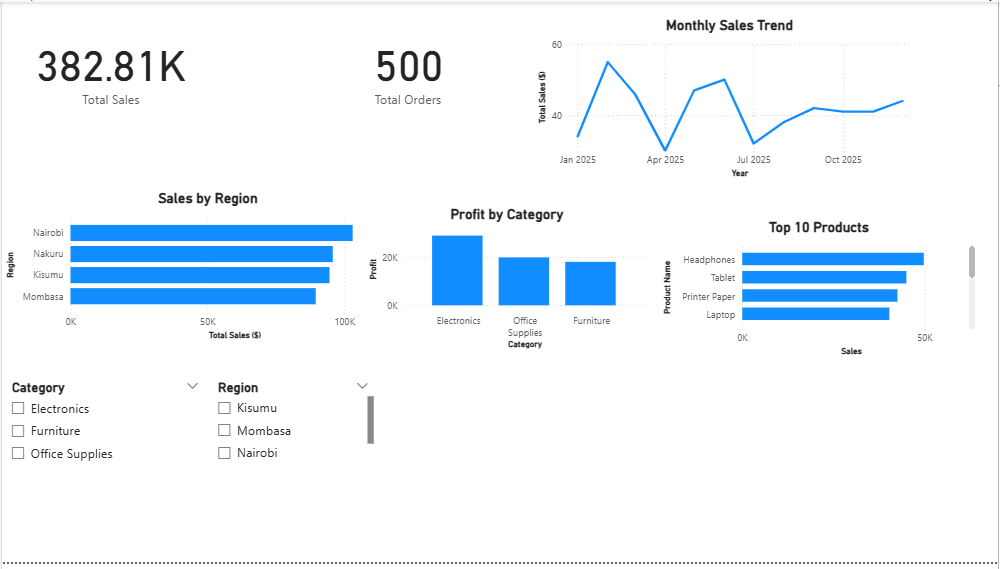

The page's visual inventory and layout, read from the dashboard file:
{"tool":"powerbi","page":{"name":"Page 1","canvas":[1280,720],"ordinal":0},"visuals":[{"type":"card","title":"Total Sales","fields":{"Values":["Sum(retail_sales_synthetic.Sales)"]},"box":[0,96,192,144],"z":0},{"type":"card","title":"Total Sales","fields":{"Values":["CountNonNull(retail_sales_synthetic.OrderID)"]},"box":[192,96,192,144],"z":1000},{"type":"lineChart","title":"Monthly Sales Trend","fields":{"Y":["Count(retail_sales_synthetic.Sales)"],"Category":["retail_sales_synthetic.OrderDate.Variation.Date Hierarchy.Year","retail_sales_synthetic.OrderDate.Variation.Date Hierarchy.Month"]},"box":[768,96,512,304],"z":1001},{"type":"clusteredBarChart","title":"Sales by Region","fields":{"Category":["retail_sales_synthetic.Region"],"Y":["Sum(retail_sales_synthetic.Sales)"]},"box":[192,240,576,256],"z":1002},{"type":"columnChart","title":"Profit by Category","fields":{"Category":["retail_sales_synthetic.Category"],"Y":["Sum(retail_sales_synthetic.Profit)"]},"box":[192,496,576,224],"z":1003},{"type":"clusteredBarChart","title":"Top 10 Products","fields":{"Category":["retail_sales_synthetic.ProductName"],"Y":["Sum(retail_sales_synthetic.Sales)"]},"box":[768,416,512,304],"z":1004},{"type":"slicer","fields":{"Values":["retail_sales_synthetic.Category"]},"box":[0,288,192,144],"z":1005},{"type":"slicer","fields":{"Values":["retail_sales_synthetic.Region"]},"box":[0,496,192,112],"z":1006},{"type":"card","fields":{"Values":["Sum(retail_sales_synthetic.Profit)"]},"box":[384,96,192,144],"z":1007},{"type":"textbox","box":[0,0,1280,96],"z":1008}]}

Visuals, with their boxes in screenshot pixels (x1, y1, x2, y2), scaled from the page's 1280x720 canvas onto the 1000x569 screenshot:
"Total Sales" card: 0/76/150/190
"Total Sales" card: 150/76/300/190
"Monthly Sales Trend" lineChart: 600/76/999/316
"Sales by Region" clusteredBarChart: 150/190/600/392
"Profit by Category" columnChart: 150/392/600/568
"Top 10 Products" clusteredBarChart: 600/329/999/568
slicer - retail_sales_synthetic.Category: 0/228/150/341
slicer - retail_sales_synthetic.Region: 0/392/150/480
card - Sum(retail_sales_synthetic.Profit): 300/76/450/190
textbox: 0/0/999/76
